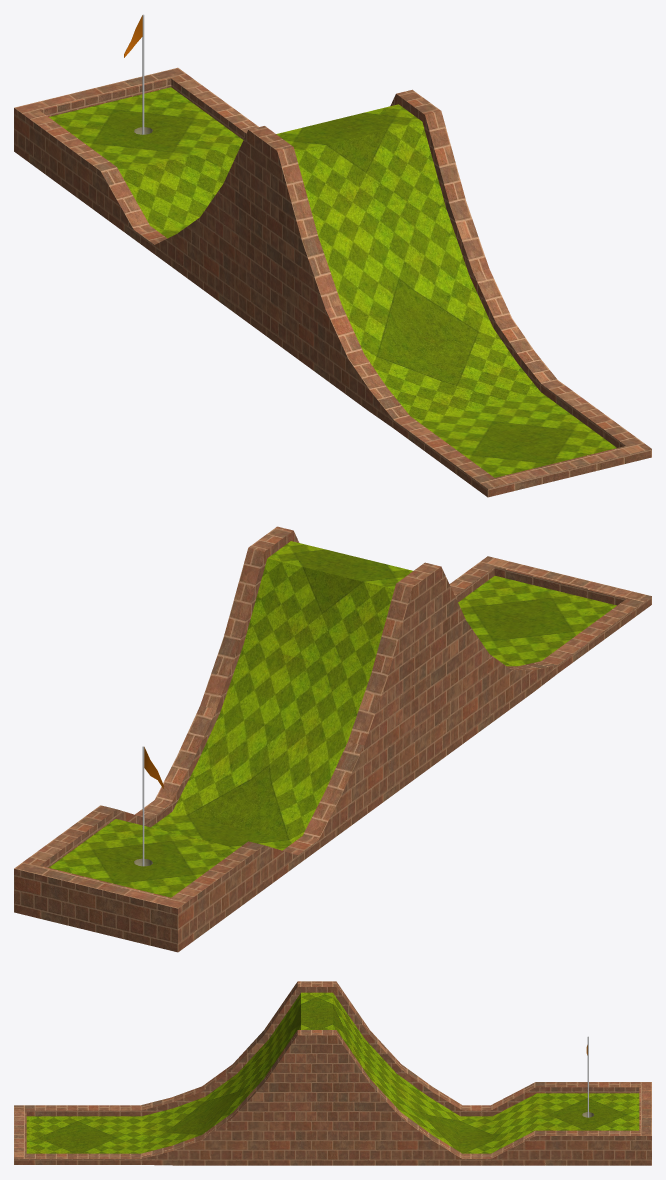
File: course2_hole3.fbx
The picture shows the model from 3 angles, top to bottom: view 1: azimuth 30°, elevation 25°; view 2: azimuth 150°, elevation 25°; view 3: azimuth 270°, elevation 25°; orthographic projection. The views are drawn at different scales.
Parts seen in each view (by area): view 1: course2_hole3_ground, course2_hole3_walls; view 2: course2_hole3_walls, course2_hole3_ground, course2_hole3_flag; view 3: course2_hole3_walls, course2_hole3_ground.
Boxes of the visible parts, x1,y1,x2,y2 form: course2_hole3_ground: (49, 87, 616, 477); course2_hole3_walls: (14, 67, 651, 497); course2_hole3_walls: (14, 526, 651, 952); course2_hole3_ground: (49, 541, 616, 897); course2_hole3_flag: (142, 746, 163, 866); course2_hole3_walls: (14, 981, 651, 1165); course2_hole3_ground: (26, 992, 639, 1153).
Size of the model in its own units: 100 by 112 by 500.
